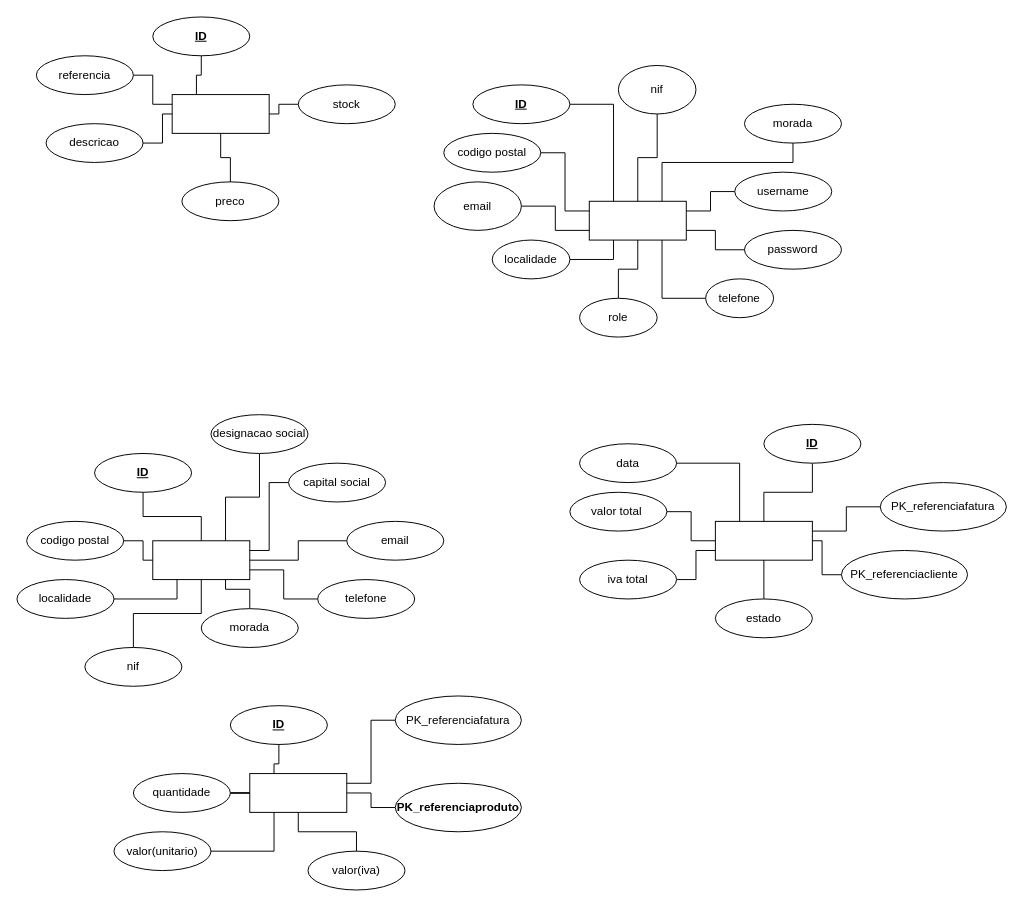
Some shapes in this 1023 by 907 pixel diagram are drawn without their labels. The box of each missing label's shape, as (x1, y1, x2, y2) in pixels:
Empresa: (152, 540, 250, 580)
Fatura: (714, 520, 812, 560)
linhafaturas: (249, 773, 347, 812)
Produtos: (171, 94, 269, 133)
Users: (588, 200, 686, 240)
